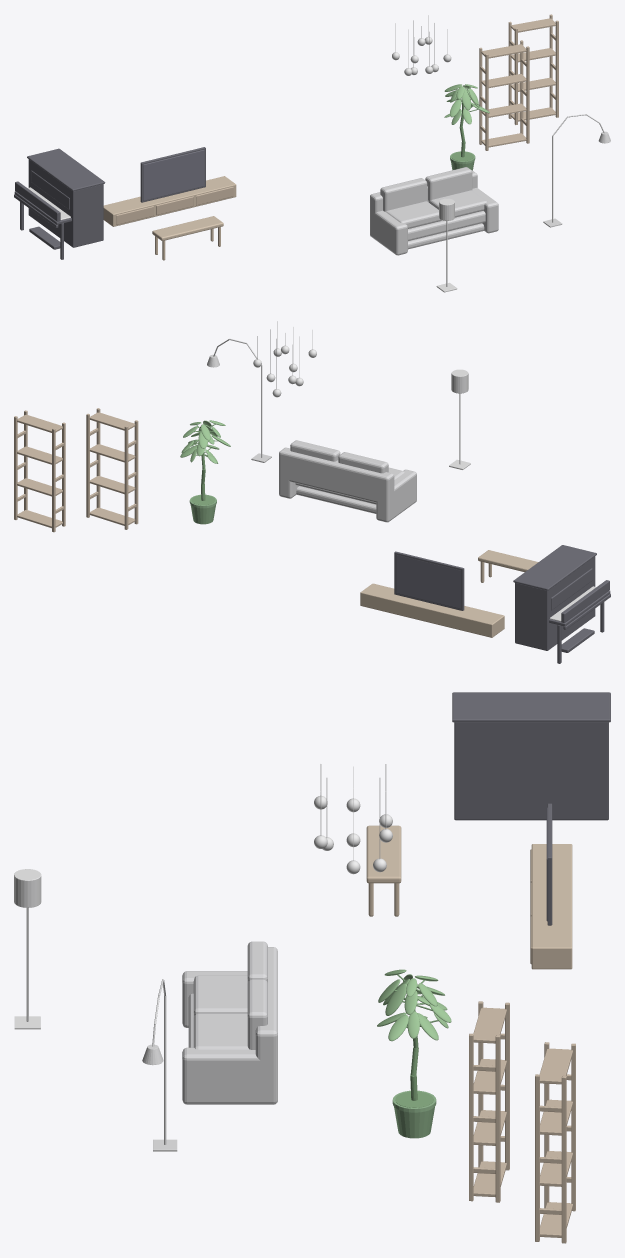
The model's file is agent_scene.glb.
3 views of the same model, one above another, from view 1: azimuth 30°, elevation 25°; view 2: azimuth 150°, elevation 25°; view 3: azimuth 270°, elevation 25° (orthographic). The views are drawn at different scales.
Parts seen in each view (by area): view 1: Sofa, Piano, Rack1, TVUnit, TV, Rack2, Plant, Bench, Pendants, FloorLamp, ArcLamp; view 2: Piano, Sofa, Rack1, Rack2, TVUnit, TV, Plant, Bench, Pendants, FloorLamp, ArcLamp; view 3: Piano, Sofa, Rack2, Rack1, Plant, TVUnit, Bench, Pendants, FloorLamp, ArcLamp, TV.
Part boxes in pixels (x1,y1,x2,y2): Sofa: [370, 167, 498, 255]; Piano: [14, 148, 105, 259]; Rack1: [479, 40, 529, 150]; TVUnit: [103, 176, 236, 226]; TV: [140, 147, 205, 202]; Rack2: [508, 14, 558, 124]; Plant: [444, 84, 489, 170]; Bench: [152, 216, 223, 260]; Pendants: [392, 15, 451, 75]; FloorLamp: [436, 198, 457, 292]; ArcLamp: [543, 114, 610, 227]; Piano: [513, 545, 610, 663]; Sofa: [279, 440, 416, 522]; Rack1: [86, 408, 138, 529]; Rack2: [14, 410, 65, 532]; TVUnit: [360, 583, 504, 637]; TV: [394, 551, 464, 610]; Plant: [180, 420, 230, 524]; Bench: [478, 550, 538, 582]; Pendants: [253, 321, 316, 397]; FloorLamp: [449, 369, 470, 469]; ArcLamp: [207, 338, 271, 462]; Piano: [452, 692, 610, 820]; Sofa: [182, 941, 277, 1104]; Rack2: [535, 1042, 575, 1243]; Rack1: [469, 1001, 509, 1202]; Plant: [377, 969, 451, 1138]; TVUnit: [530, 844, 572, 969]; Bench: [366, 825, 401, 916]; Pendants: [314, 764, 392, 874]; FloorLamp: [14, 869, 41, 1029]; ArcLamp: [142, 979, 177, 1151]; TV: [546, 803, 552, 925].
Size of the model in its own units: 10.32 by 3.3 by 5.87.
